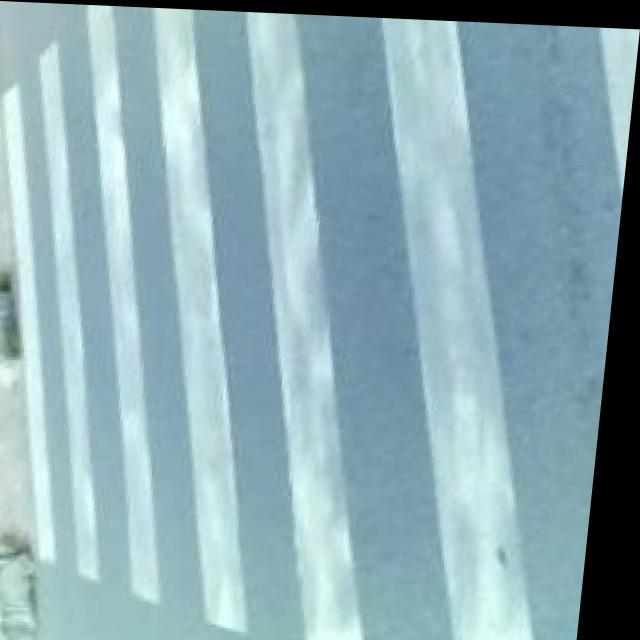zebra: (36, 3, 589, 573)
